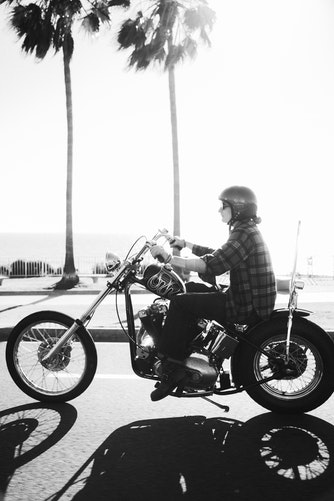helmet: (214, 187, 257, 226)
